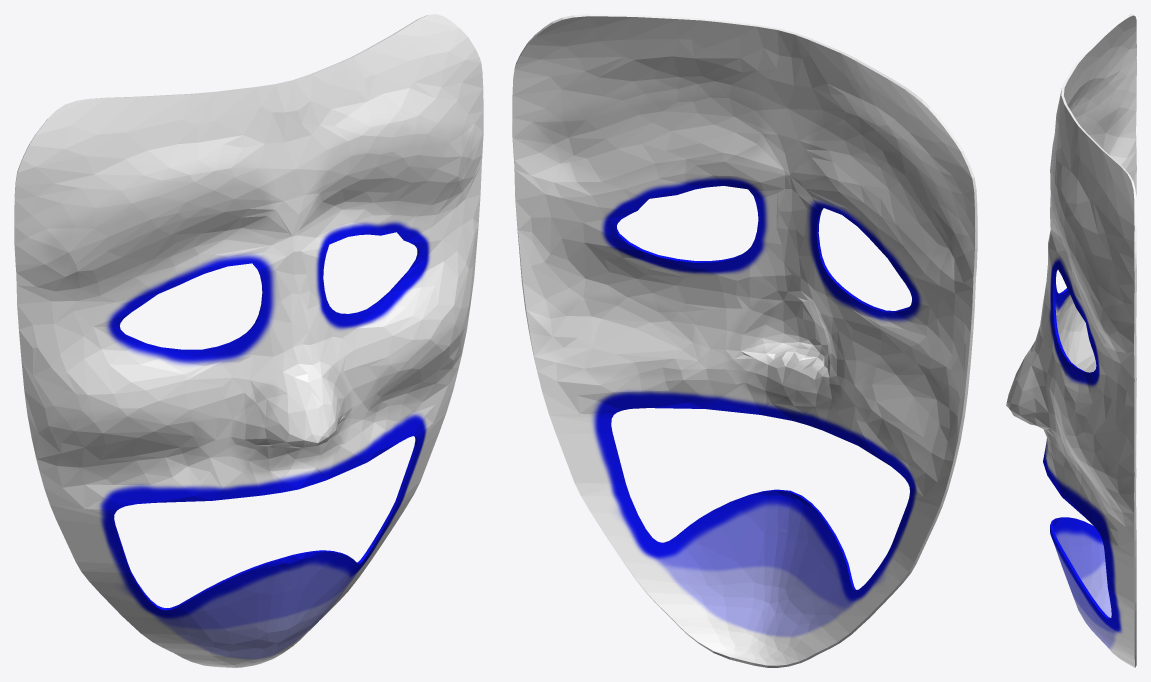
The model's file is SadMask.fbx.
3 renders of one model, left to right at view 1: azimuth 30°, elevation 25°; view 2: azimuth 150°, elevation 25°; view 3: azimuth 270°, elevation 25°, orthographic. The views are drawn at different scales.
Parts seen in each view (by area): view 1: Plane.003; view 2: Plane.003; view 3: Plane.003.
Boxes of the visible parts, x1,y1,x2,y2 form: Plane.003: (14,14,483,667); Plane.003: (512,14,977,667); Plane.003: (1006,14,1136,667).
Size of the model in its own units: 185 by 229 by 48.39.
1 material, 1 textured.
